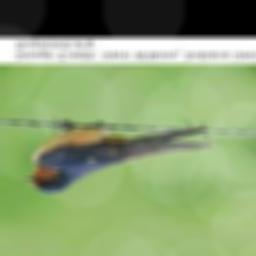Swallow: (24, 126, 212, 193)
